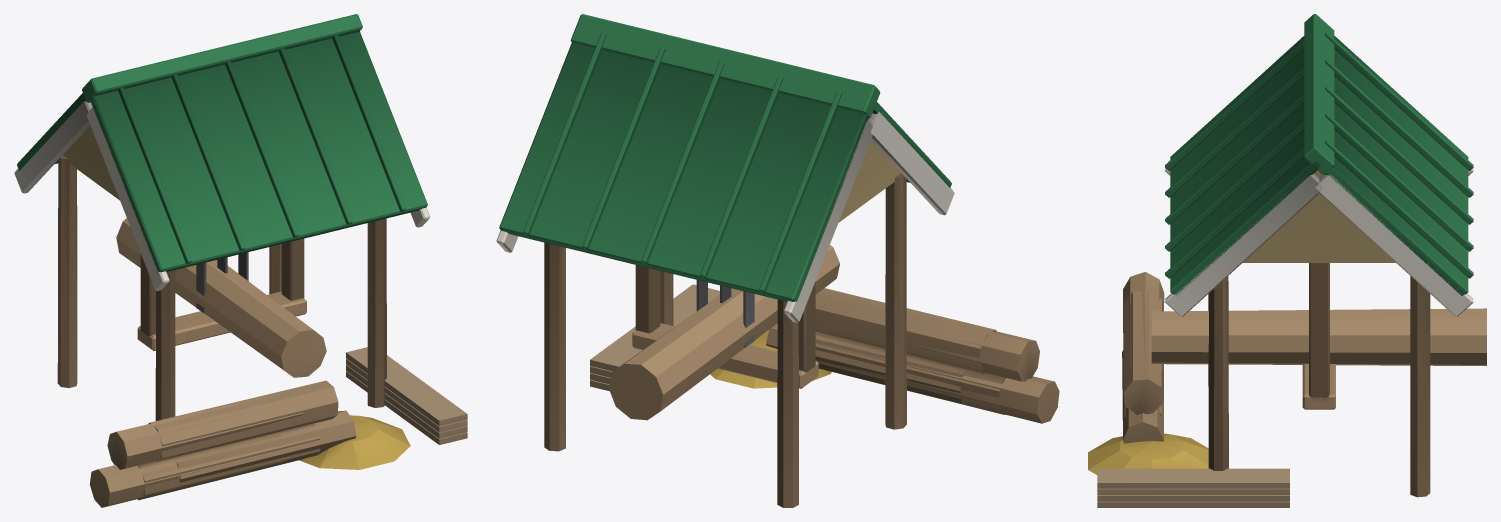
Rendered from bld_lesopilka_e2.glb.
The picture shows the model from 3 angles, left to right: view 1: azimuth 30°, elevation 25°; view 2: azimuth 150°, elevation 25°; view 3: azimuth 270°, elevation 25°; orthographic projection. The views are drawn at different scales.
Visible parts, largest first — view 1: lesopilka; view 2: lesopilka; view 3: lesopilka.
Part boxes in pixels (x1,y1,x2,y2): lesopilka: (14,14,467,507); lesopilka: (496,14,1059,507); lesopilka: (1088,14,1486,507).
Size of the model in its own units: 0.98 by 0.9467 by 0.9522.
